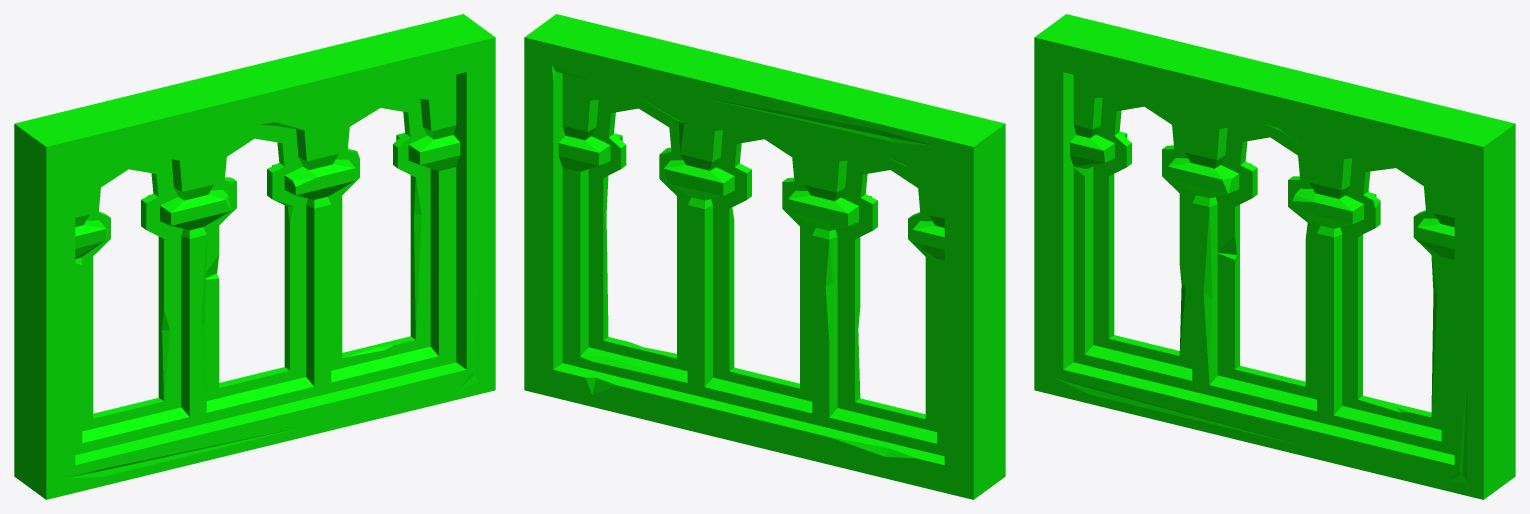
Rendered from SM_Window_Wall_3x2m.fbx.
3 views of the same model, side by side, from view 1: azimuth 30°, elevation 25°; view 2: azimuth 150°, elevation 25°; view 3: azimuth 330°, elevation 25° (orthographic).
Parts seen in each view (by area): view 1: window-wall-3x2m; view 2: window-wall-3x2m; view 3: window-wall-3x2m.
Part boxes in pixels (x1,y1,x2,y2): window-wall-3x2m: [14, 14, 495, 499]; window-wall-3x2m: [524, 14, 1005, 499]; window-wall-3x2m: [1034, 14, 1515, 499].
Bounding box in the file's own units: 3 × 2.25 × 0.37.
